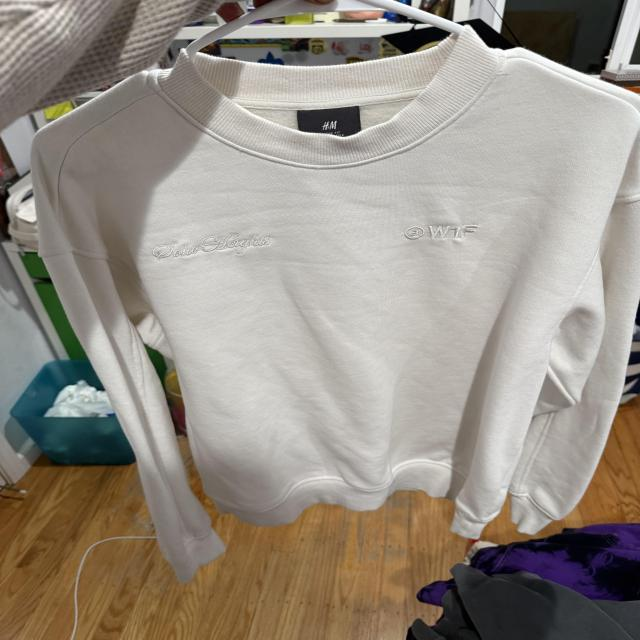back_tag: (297, 109, 363, 142)
